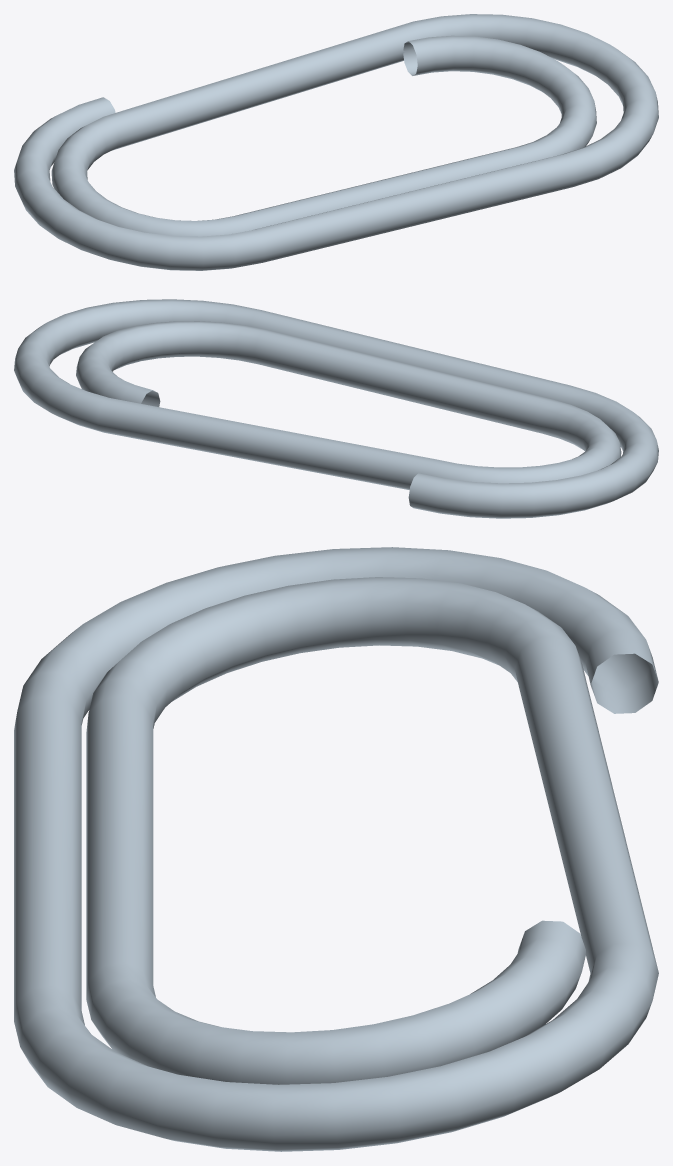
The model's file is paperclip.glb.
3 views of the same model, one above another, from view 1: azimuth 30°, elevation 25°; view 2: azimuth 150°, elevation 25°; view 3: azimuth 270°, elevation 25° (orthographic). The views are drawn at different scales.
Parts seen in each view (by area): view 1: Paperclip - curved steel wire; view 2: Paperclip - curved steel wire; view 3: Paperclip - curved steel wire.
Part boxes in pixels (left/top/right/bottom): Paperclip - curved steel wire: left=14, top=14, right=658, bottom=270; Paperclip - curved steel wire: left=14, top=299, right=658, bottom=518; Paperclip - curved steel wire: left=14, top=547, right=658, bottom=1151.
Bounding box in the file's own units: 0.7379 × 0.063 × 0.3577.
